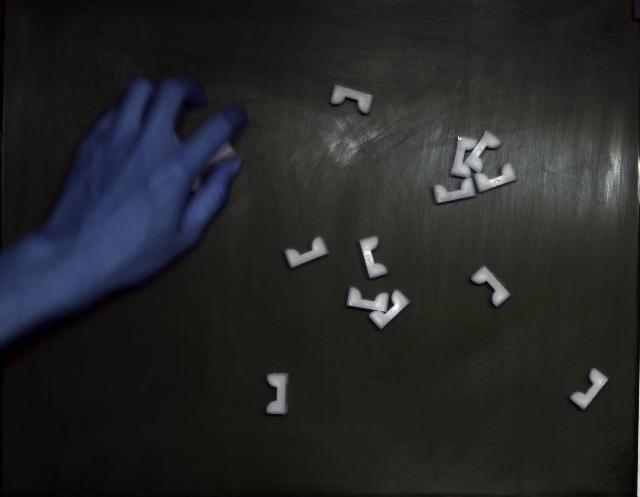third_side: (369, 290, 410, 330), (471, 266, 510, 308), (570, 369, 609, 410), (465, 131, 501, 172), (285, 236, 329, 269), (330, 85, 374, 114), (474, 162, 516, 192), (360, 236, 388, 279), (451, 136, 478, 178), (434, 178, 475, 204), (346, 288, 389, 312), (266, 374, 289, 415)
